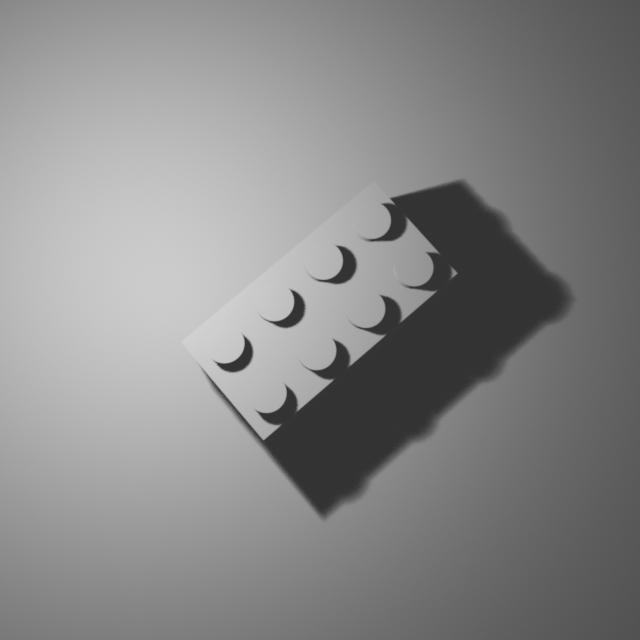lego_2x4: (179, 177, 459, 442)
